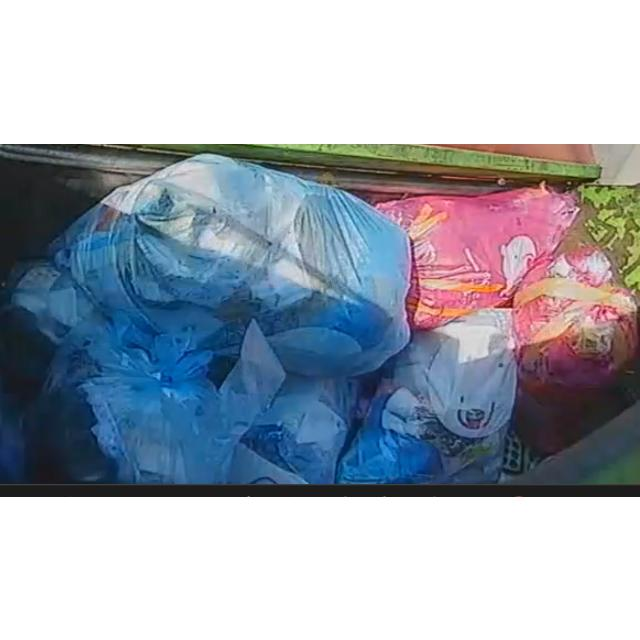other_trashbag: (54, 153, 410, 374), (4, 263, 230, 483), (338, 308, 516, 482), (376, 186, 579, 328), (219, 319, 354, 483), (512, 244, 638, 385)
